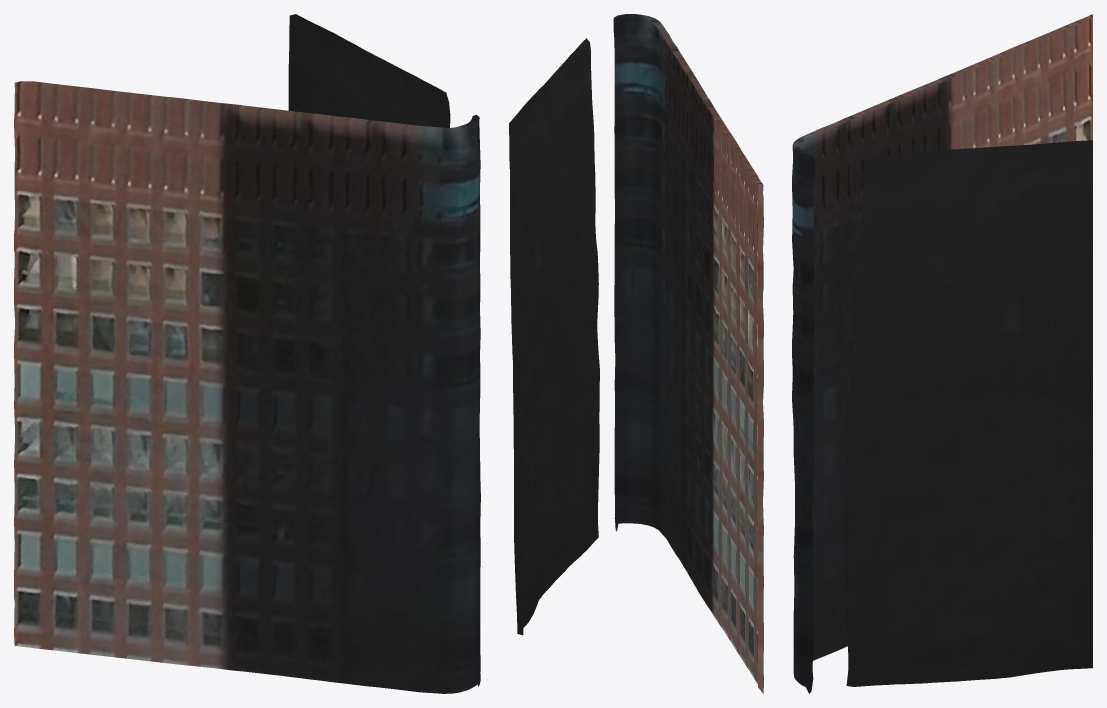
The model's file is z20-167778-405232-h1-yup-uvflip-v3-world.glb.
3 renders of one model, left to right at view 1: azimuth 30°, elevation 25°; view 2: azimuth 150°, elevation 25°; view 3: azimuth 270°, elevation 25°, orthographic. The views are drawn at different scales.
Bounding box in the file's own units: 23.04 × 39.96 × 20.32.
Materials: 1 (1 with a texture image).
